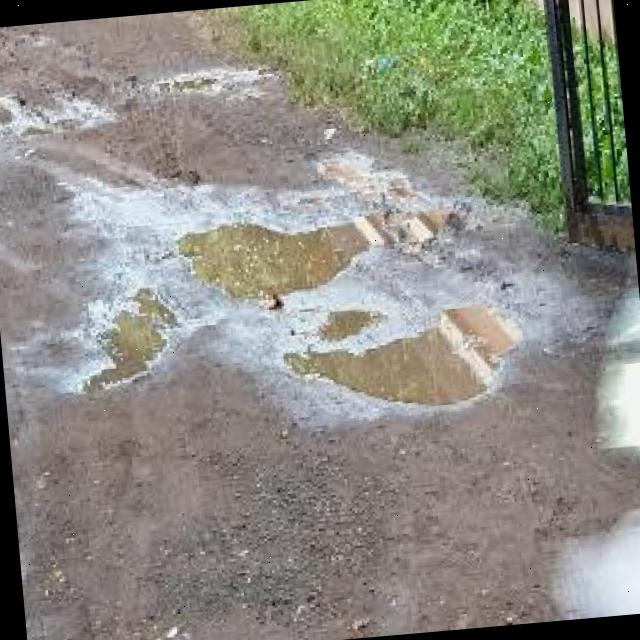waterlogging: (278, 285, 527, 433), (160, 194, 466, 303), (68, 277, 178, 409)
